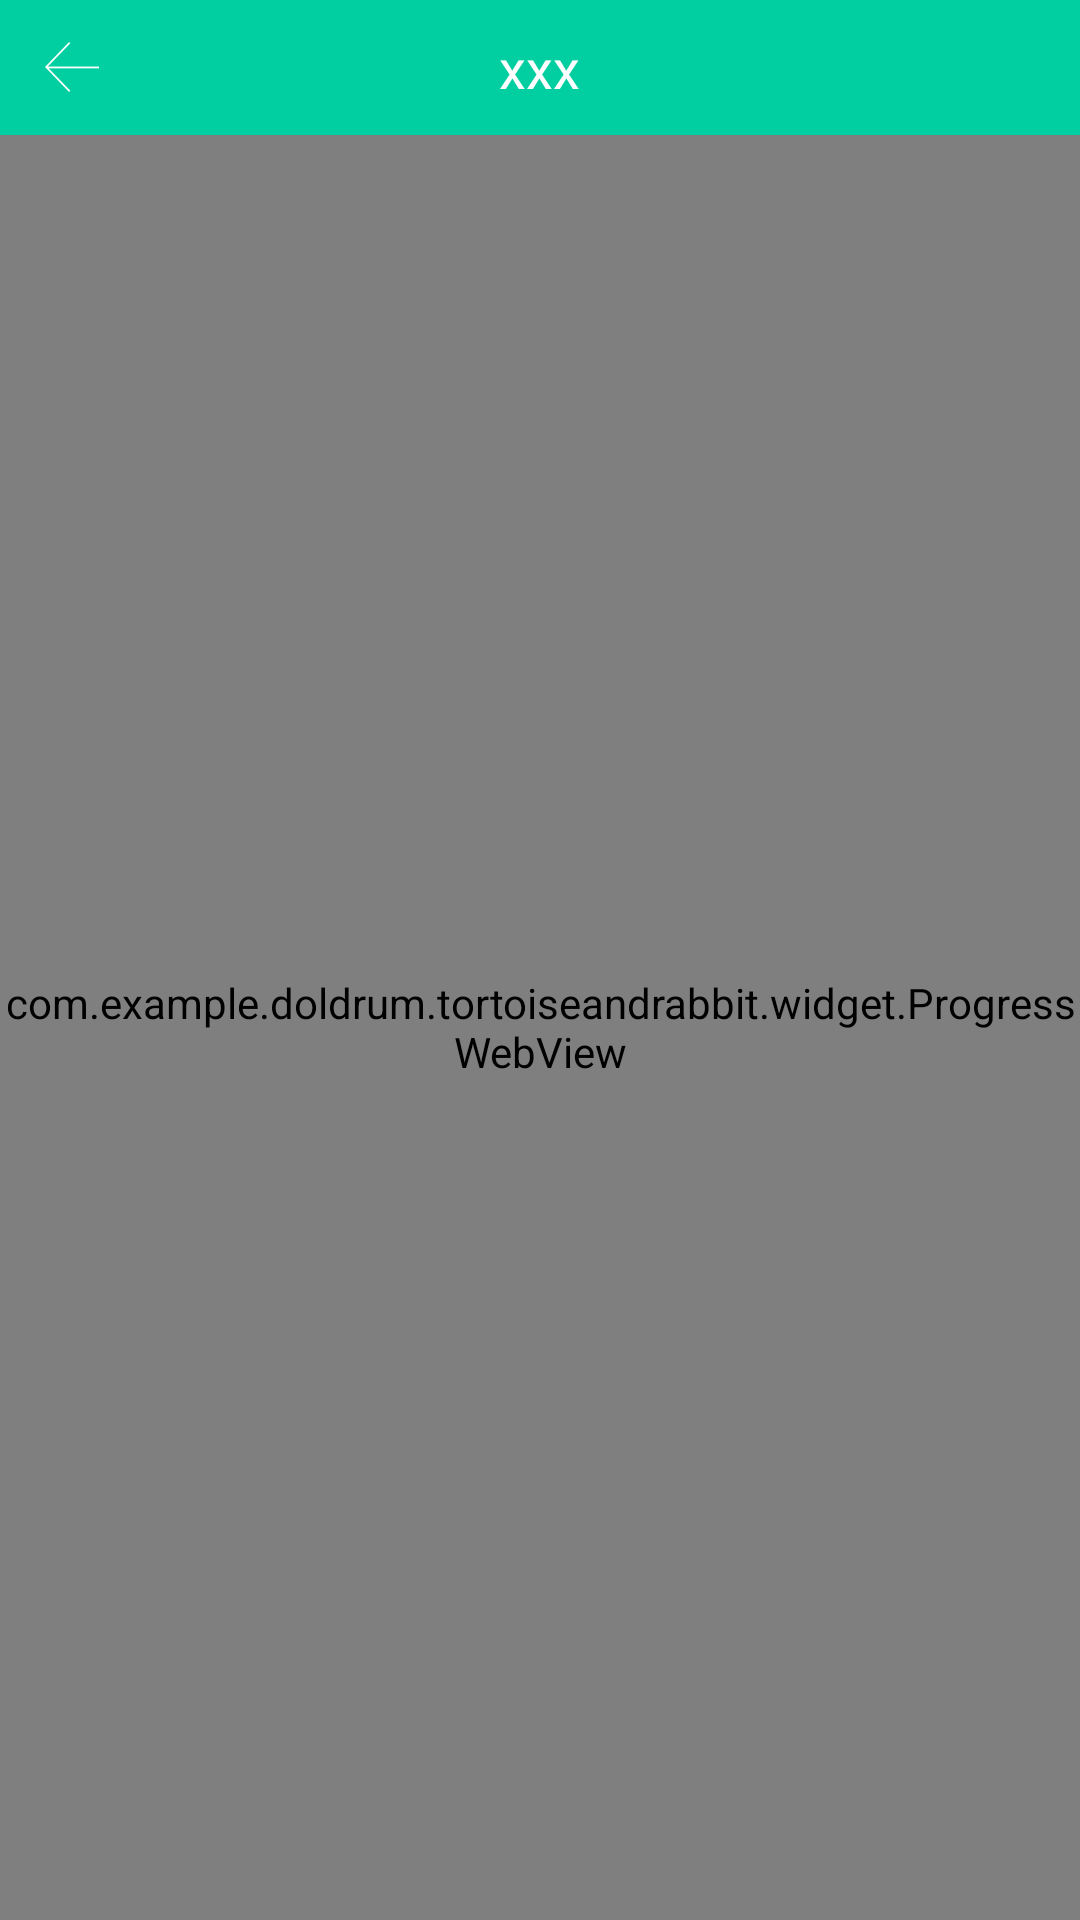

Named icons in this screenshot (1080px x 1920px) and their bounding boxes, (x1=x1, y1=y1, x2=x2, y2=y2):
back: (x1=45, y1=42, x2=99, y2=92)
